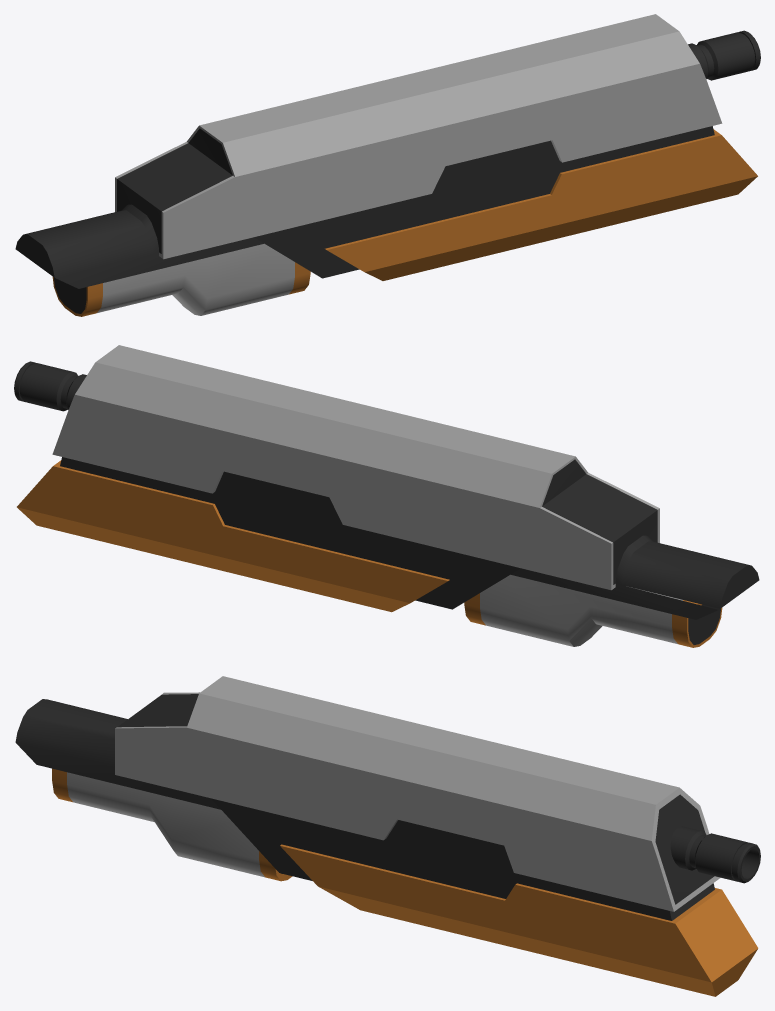
The model's file is quaternius-modular-sci-fi-guns-body-smg-2.glb.
3 views of the same model, one above another, from view 1: azimuth 30°, elevation 25°; view 2: azimuth 150°, elevation 25°; view 3: azimuth 330°, elevation 25° (orthographic).
Parts seen in each view (by area): view 1: Body_SMG_2; view 2: Body_SMG_2; view 3: Body_SMG_2.
Part boxes in pixels (x1,y1,x2,y2): Body_SMG_2: (15, 14, 760, 316); Body_SMG_2: (14, 345, 759, 647); Body_SMG_2: (15, 676, 760, 996).
Size of the model in its own units: 1.5 by 0.3561 by 0.1759.
